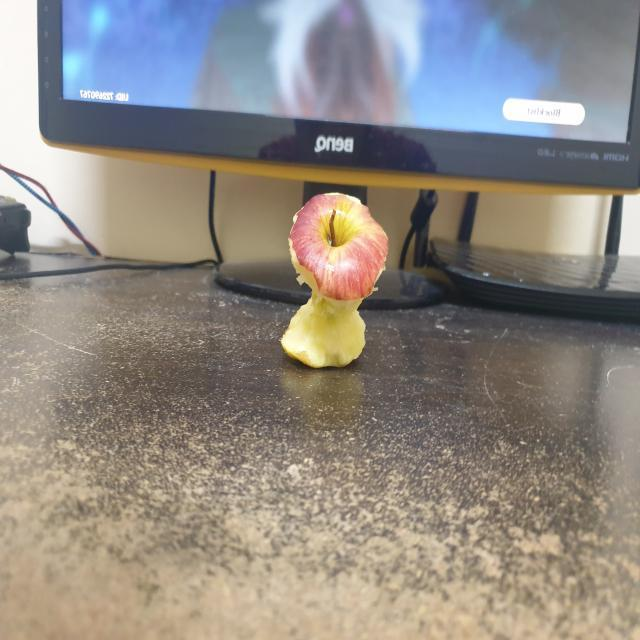apple: (276, 177, 394, 387)
